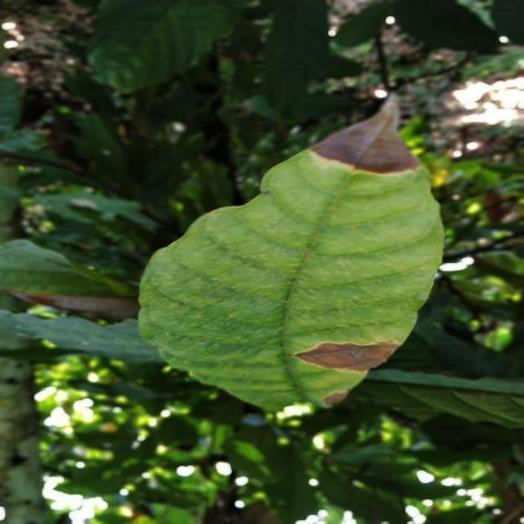Potassium: (140, 99, 443, 409)
